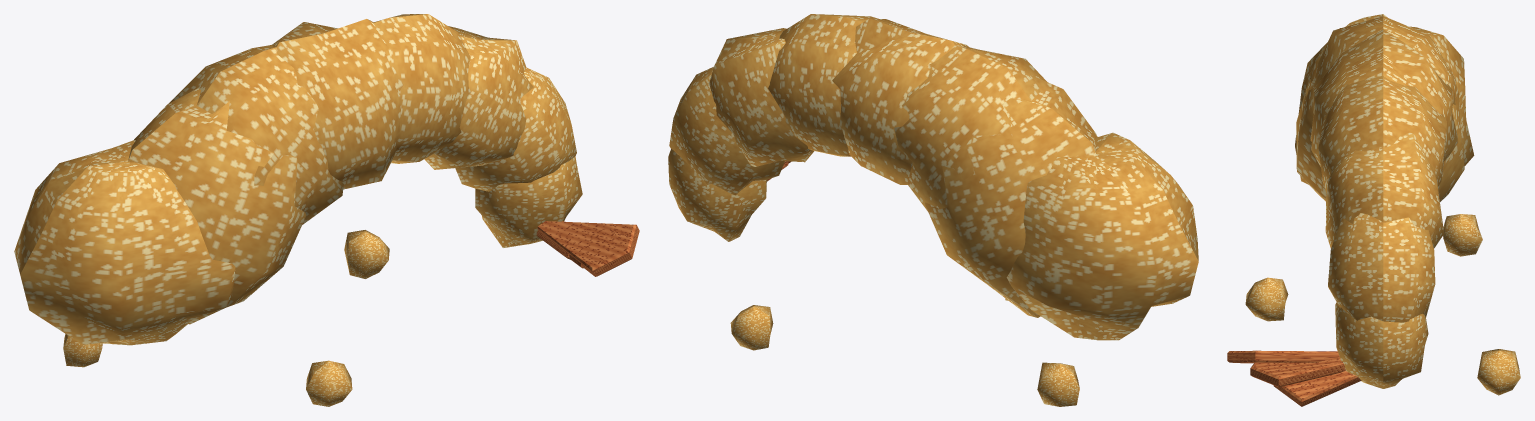
File: friedshrimp.obj
3 views of the same model, side by side, from view 1: azimuth 30°, elevation 25°; view 2: azimuth 150°, elevation 25°; view 3: azimuth 270°, elevation 25° (orthographic). The views are drawn at different scales.
Parts seen in each view (by area): view 1: friedshrimp_0_surface; view 2: friedshrimp_0_surface; view 3: friedshrimp_0_surface.
Part boxes in pixels (x1,y1,x2,y2): friedshrimp_0_surface: [14, 14, 639, 406]; friedshrimp_0_surface: [668, 14, 1198, 406]; friedshrimp_0_surface: [1227, 14, 1520, 406].
Size of the model in its own units: 0.3128 by 0.172 by 0.1522.
Materials: 1 (1 with a texture image).
